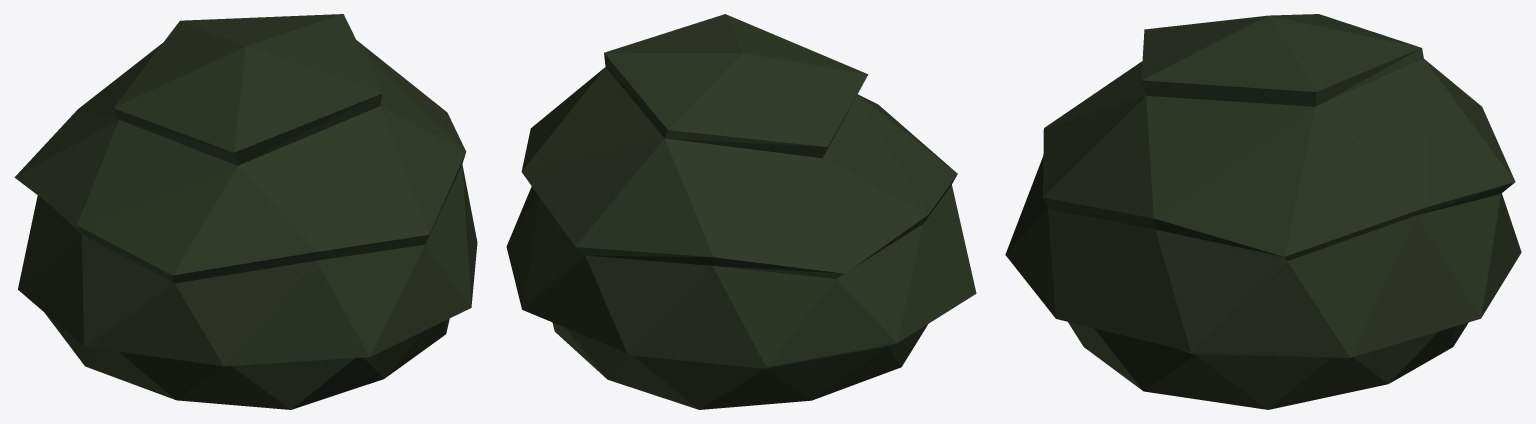
File: bush.glb
3 views of the same model, side by side, from view 1: azimuth 30°, elevation 25°; view 2: azimuth 150°, elevation 25°; view 3: azimuth 270°, elevation 25° (orthographic). The views are drawn at different scales.
Parts seen in each view (by area): view 1: Bush Summer; view 2: Bush Summer; view 3: Bush Summer.
Part boxes in pixels (x1,y1,x2,y2): Bush Summer: (14, 14, 477, 409); Bush Summer: (506, 14, 976, 409); Bush Summer: (1005, 14, 1521, 409).
Bounding box in the file's own units: 8.07 × 5.38 × 8.2.
Materials: 1 (1 with a texture image).
